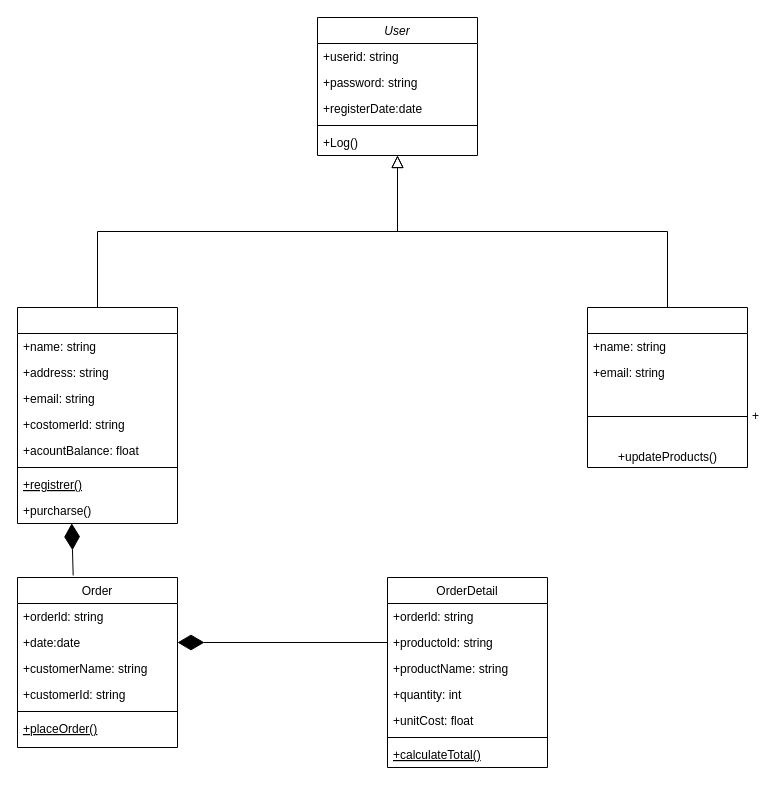
The diagram is 777 pixels wide and 788 high, and some of its shapes have lost their labels. The shapes that lost their labels are listed below. From the top down, each one's box as (x1, y1, x2, y2) in pixels, then its label:
(586, 306, 748, 468): Administrate
(16, 306, 178, 524): Customer
